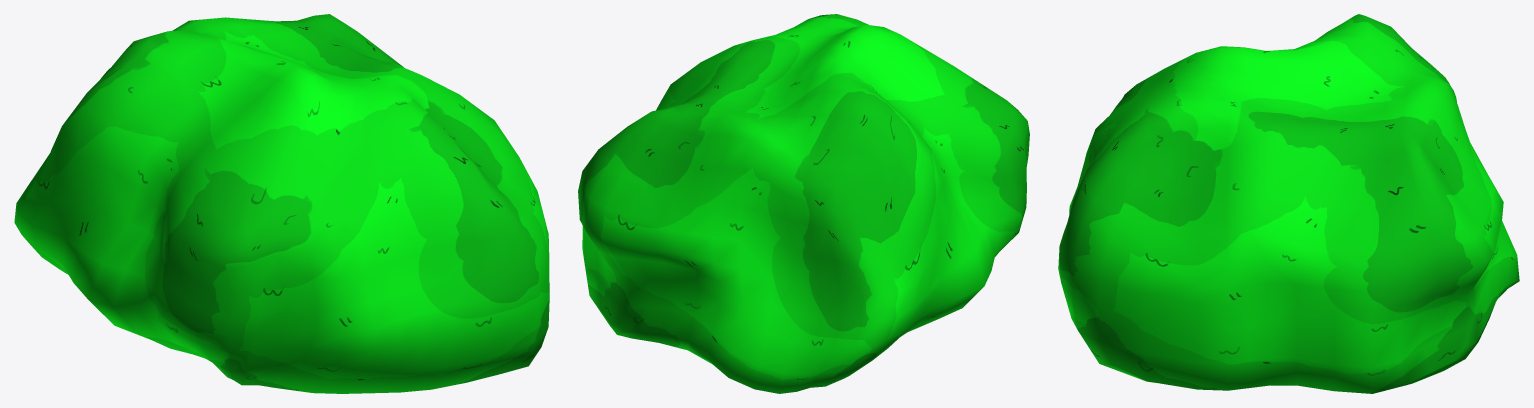
File: bush.fbx
3 views of the same model, side by side, from view 1: azimuth 30°, elevation 25°; view 2: azimuth 150°, elevation 25°; view 3: azimuth 270°, elevation 25° (orthographic). The views are drawn at different scales.
Visible parts, largest first — view 1: Box001; view 2: Box001; view 3: Box001.
Part boxes in pixels (x1,y1,x2,y2): Box001: (14,14,549,393); Box001: (578,14,1029,393); Box001: (1058,14,1519,393).
Bounding box in the file's own units: 87.25 × 59.37 × 95.82.
Materials: 1 (1 with a texture image).
